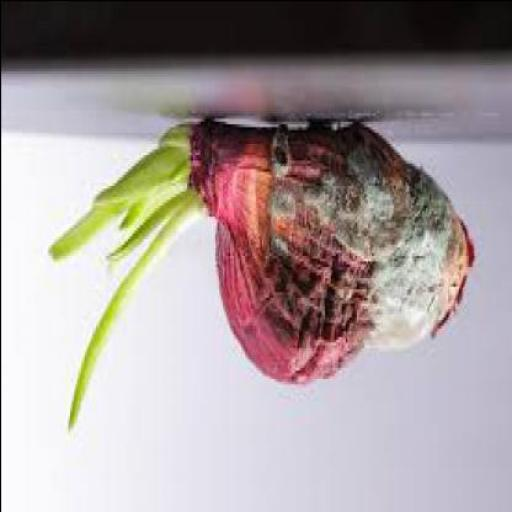biodegradable: (190, 120, 475, 386), (48, 126, 208, 436)
